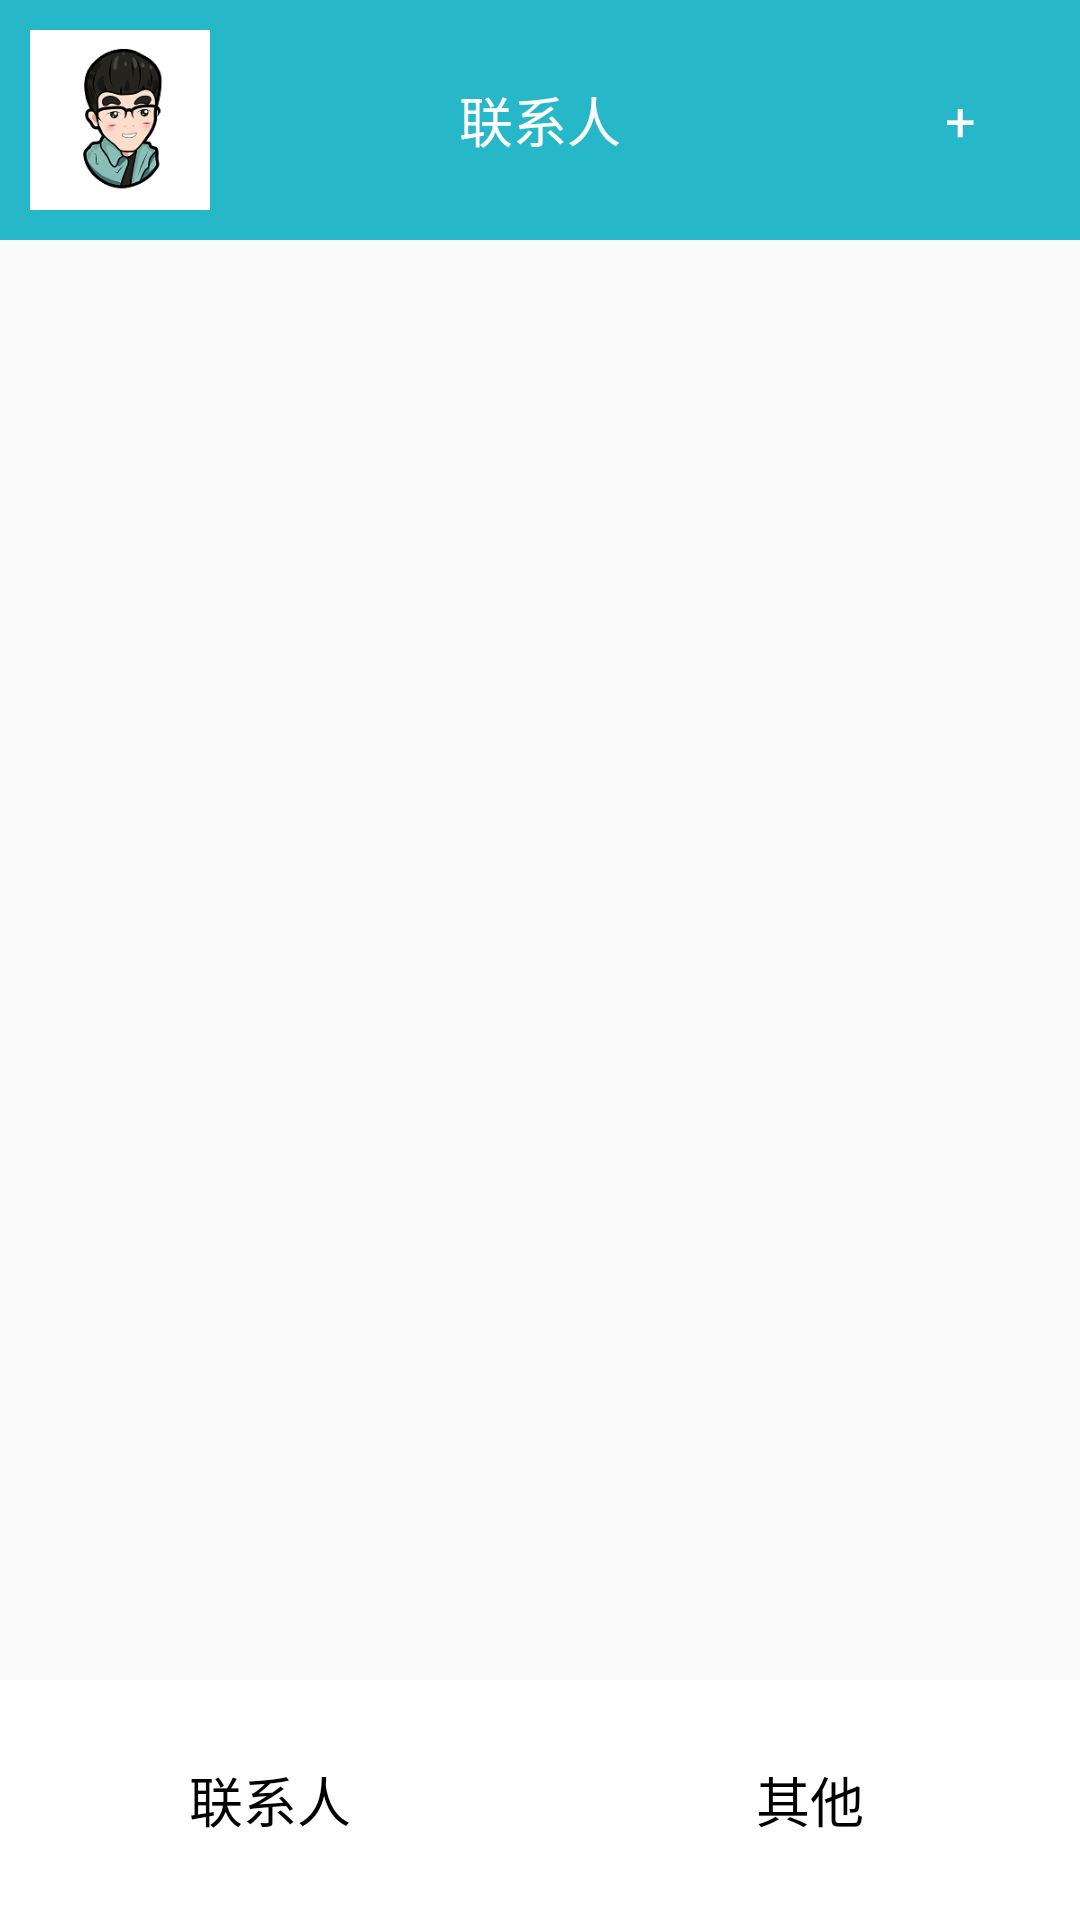

Named icons in this screenshot (1080x1920) and their bounding boxes, rect(x1, y1, x2, y2):
headm: rect(30, 30, 210, 210)
